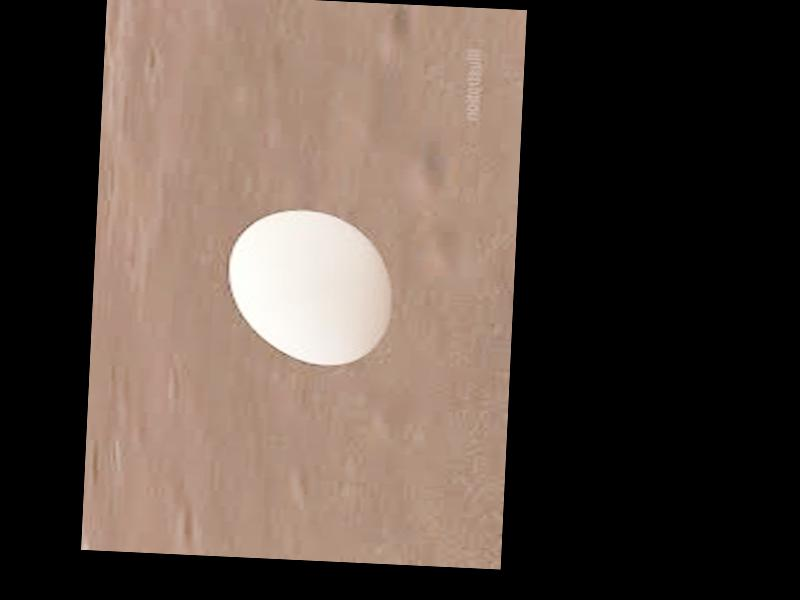Eggs: (225, 206, 395, 369)
